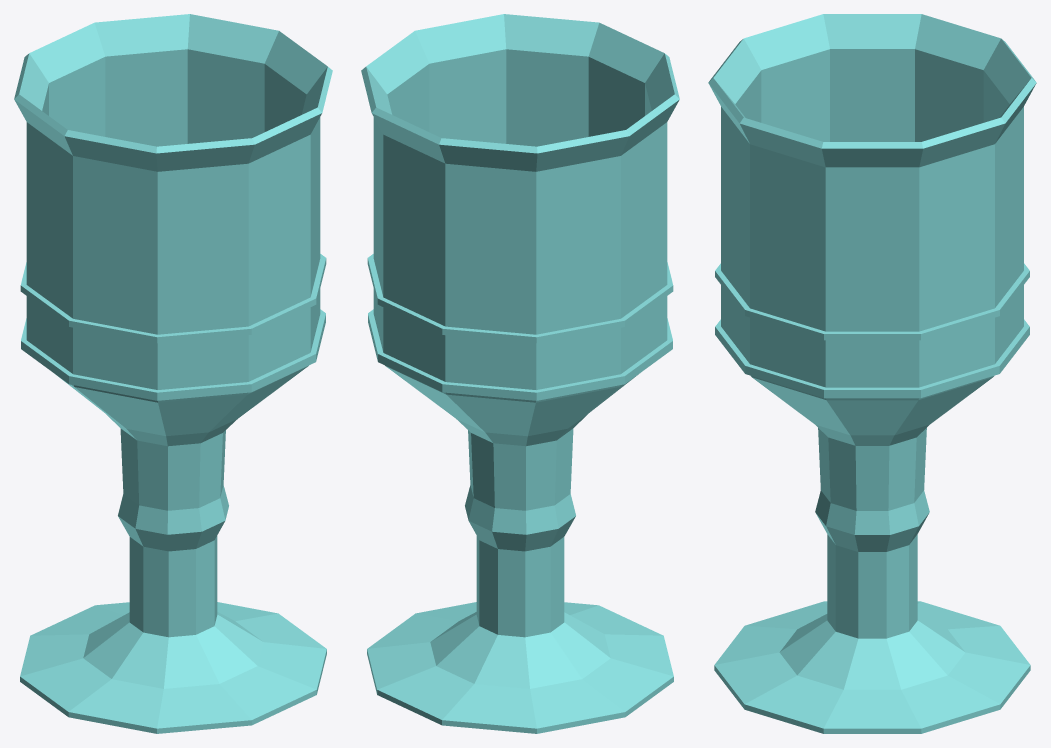
Rendered from india_goblet 2.fbx.
3 views of the same model, side by side, from view 1: azimuth 30°, elevation 25°; view 2: azimuth 150°, elevation 25°; view 3: azimuth 270°, elevation 25° (orthographic).
Parts seen in each view (by area): view 1: Goblet; view 2: Goblet; view 3: Goblet.
Part boxes in pixels (x1,y1,x2,y2): Goblet: (14, 14, 332, 733); Goblet: (361, 14, 679, 733); Goblet: (708, 14, 1036, 733).
Size of the model in its own units: 8.96 by 18.74 by 9.42.
